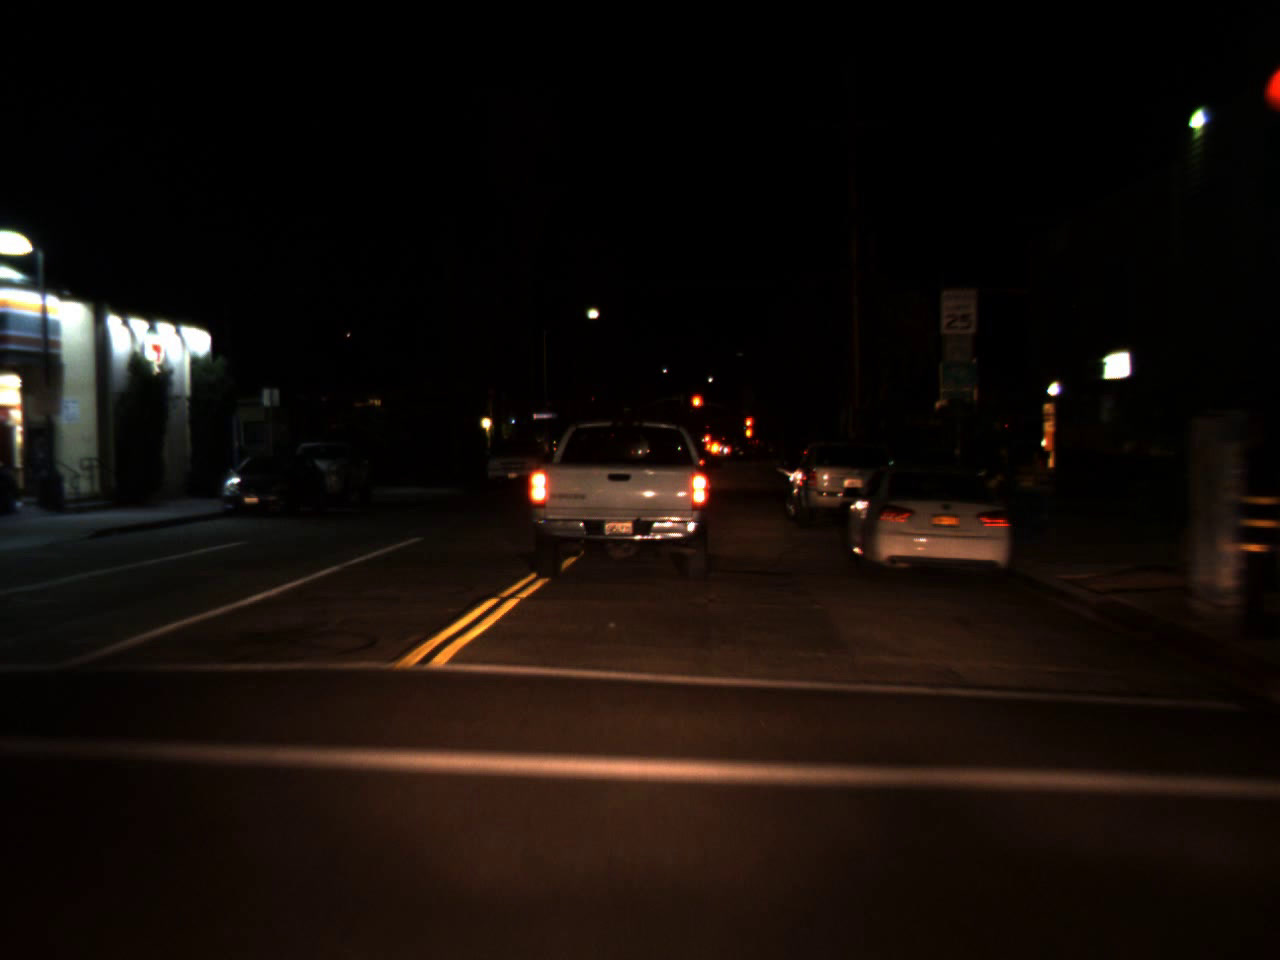stop: (690, 393, 703, 419), (744, 416, 753, 437)
